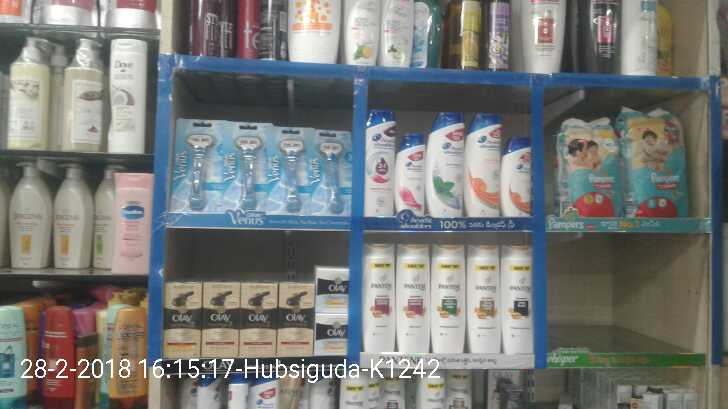venus: (174, 117, 220, 210), (228, 125, 273, 205), (310, 129, 352, 213), (273, 125, 310, 213)
